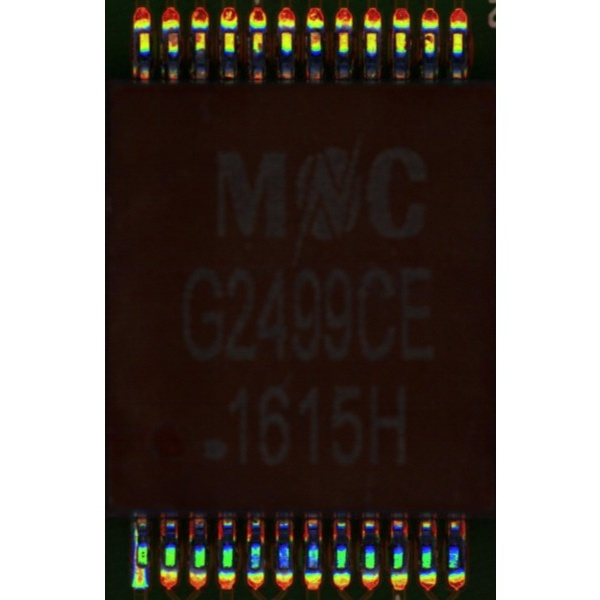Bad_podu: (136, 559, 144, 576)
Bad_qiaojiao: (132, 527, 136, 566)
